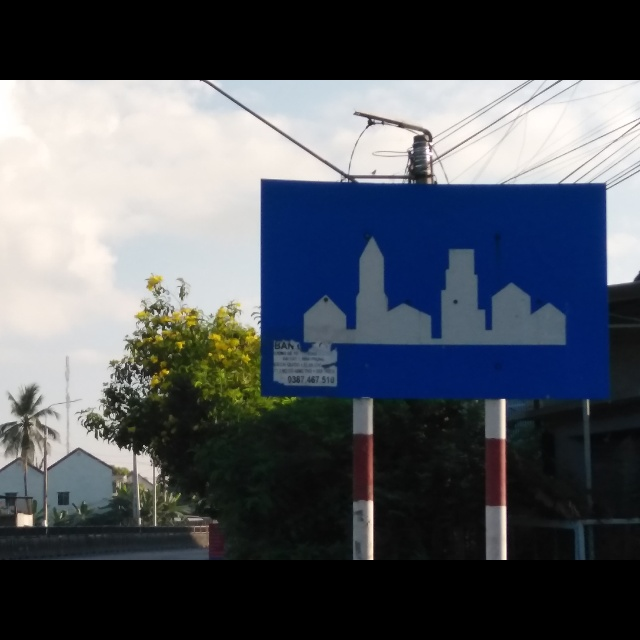Khu đông dân cư: (258, 172, 609, 393)
